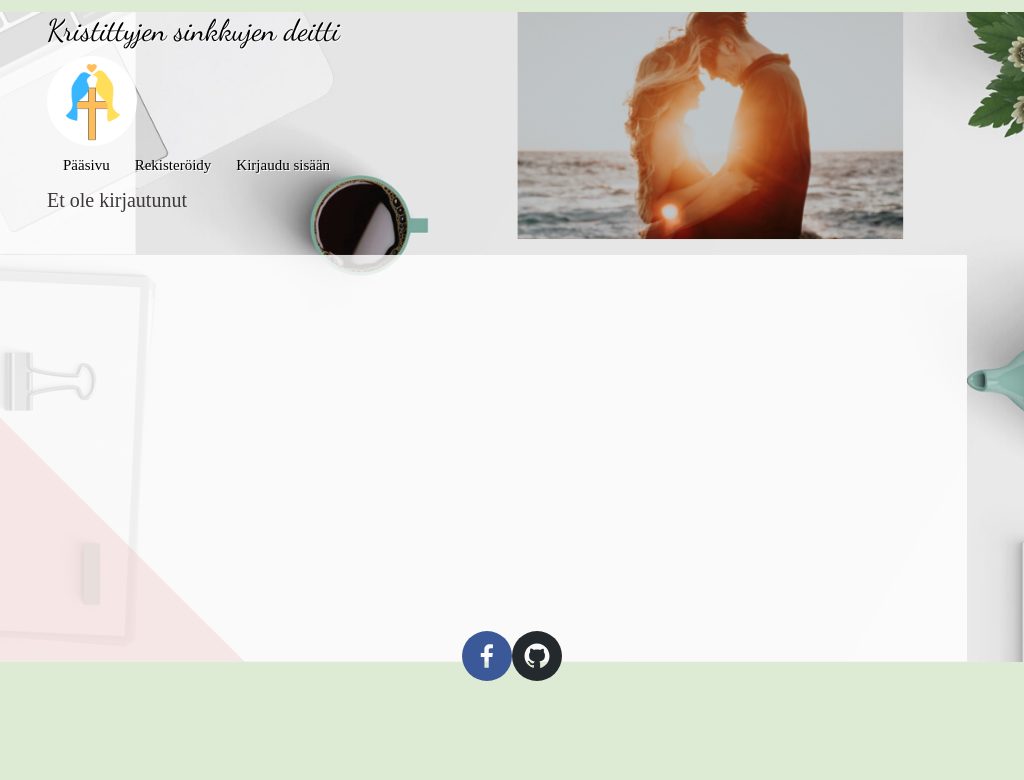
it: Forms › Login form is shown
This screenshot has width=1024, height=780.
Click the link with id "loginform" at (283, 165), box 236,157 -> 330,173
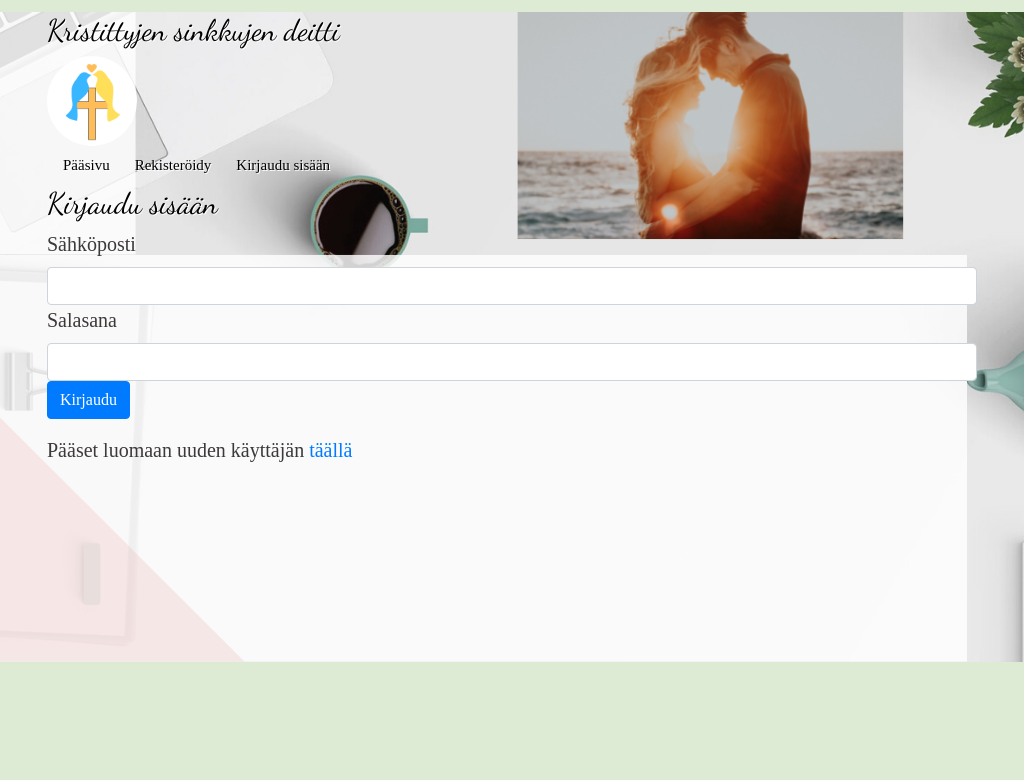
Result: the text "Sähköposti" is shown at 47,228 -> 136,258
Result: the text "Salasana" is shown at 47,304 -> 117,334
